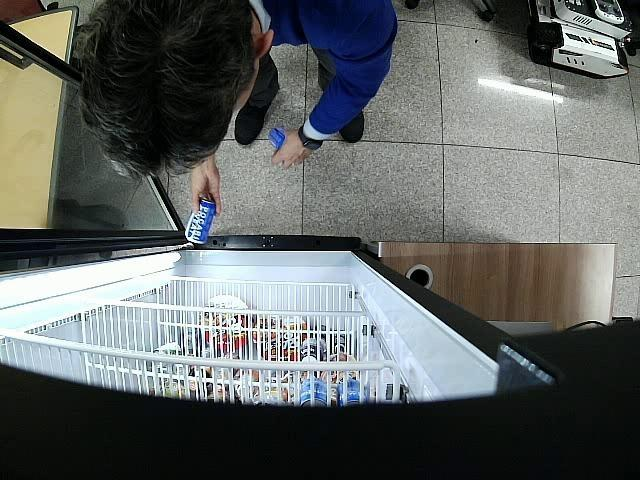13_pocariSweat: (186, 199, 215, 243), (268, 128, 284, 154)
